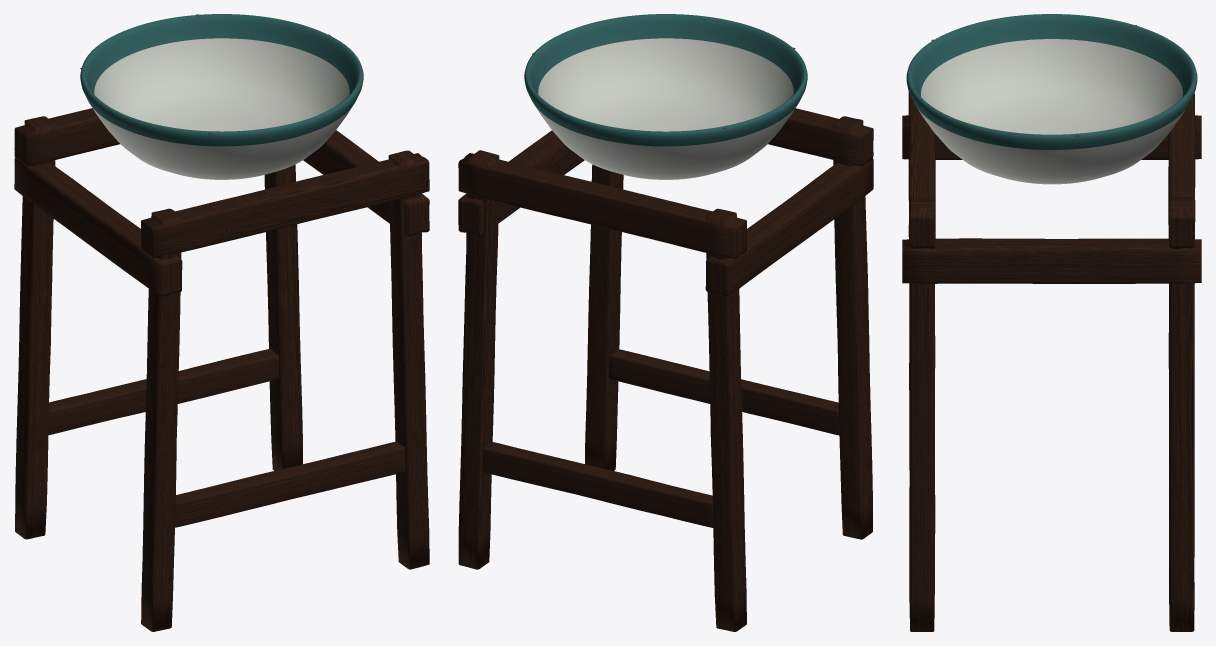
File: inspect_washstand.glb
3 views of the same model, side by side, from view 1: azimuth 30°, elevation 25°; view 2: azimuth 150°, elevation 25°; view 3: azimuth 270°, elevation 25° (orthographic). The views are drawn at different scales.
Visible parts, largest first — view 1: washstand_washstand_review_20261020_bed_aged_lacquer, washstand_washstand_washstand_ivory_enamel; view 2: washstand_washstand_review_20261020_bed_aged_lacquer, washstand_washstand_washstand_ivory_enamel; view 3: washstand_washstand_review_20261020_bed_aged_lacquer, washstand_washstand_washstand_ivory_enamel.
Part boxes in pixels (left/top/right/bottom): washstand_washstand_review_20261020_bed_aged_lacquer: left=14, top=108, right=429, bottom=631; washstand_washstand_washstand_ivory_enamel: left=80, top=14, right=363, bottom=179; washstand_washstand_review_20261020_bed_aged_lacquer: left=458, top=108, right=873, bottom=631; washstand_washstand_washstand_ivory_enamel: left=524, top=14, right=807, bottom=179; washstand_washstand_review_20261020_bed_aged_lacquer: left=902, top=91, right=1201, bottom=631; washstand_washstand_washstand_ivory_enamel: left=906, top=14, right=1197, bottom=184.
Size of the model in its own units: 0.5851 by 0.9549 by 0.53.
Materials: 4 (1 with a texture image).
